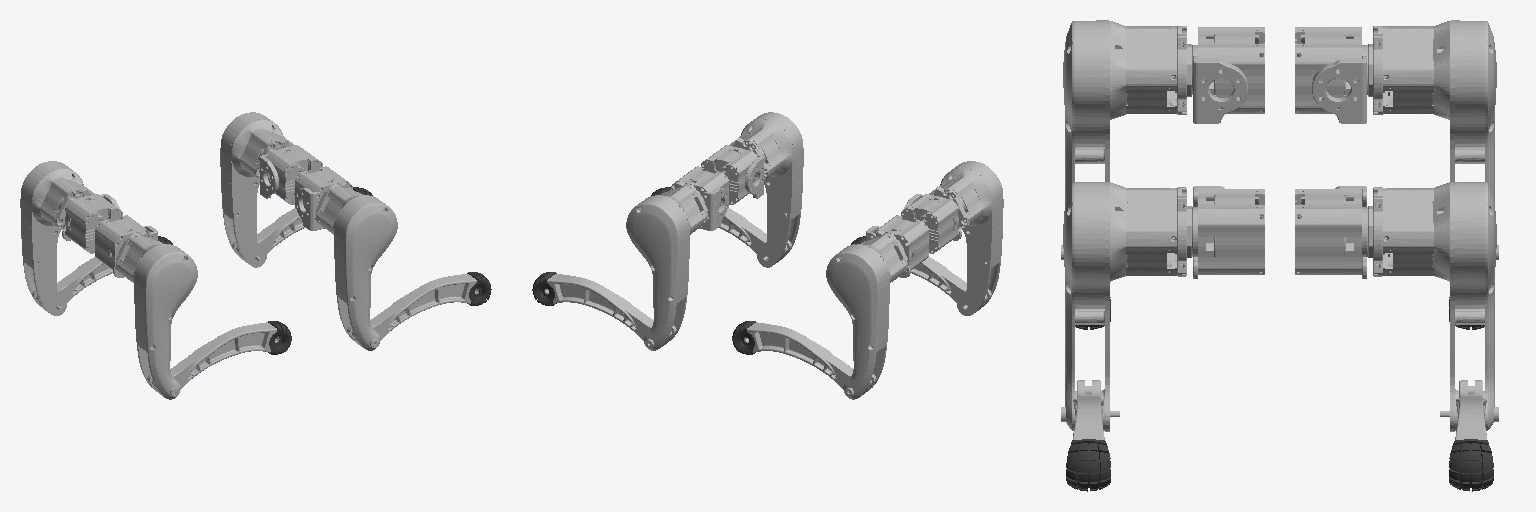
URDF robot description (htdw_4438):
<?xml version="1.0" encoding="utf-8"?>
 <!-- This URDF was automatically created by SolidWorks to URDF Exporter! Originally created by Stephen Brawner (brawner@gmail.com) 
      Commit Version: 1.6.0-4-g7f85cfe  Build Version: 1.6.7995.38578
      For more information, please see http://wiki.ros.org/sw_urdf_exporter -->
 <robot name="htdw_4438">
   <link name="base_link">
     <inertial>
       <origin xyz="0.000600465368410276 -0.00314982453651785 0.00152513518469231" rpy="0 0 0" />
       <mass value="1.84297330256496" />
       <inertia ixx="0.00116284610393262" ixy="2.17717486004626E-06" ixz="-2.04491805432312E-06" iyy="0.00097787331335566" iyz="7.97599370739883E-06" izz="0.00132112556839796" />
     </inertial>
     <visual>
       <origin xyz="0 0 0" rpy="0 0 0" />
       <geometry>
         <mesh filename="../meshes/base_link.STL" />
       </geometry>
       <material name="">
         <color rgba="0.752941176470588 0.752941176470588 0.752941176470588 1" />
       </material>
     </visual>
     <collision>
       <origin xyz="0 0 0" rpy="0 0 0" />
       <geometry>
         <mesh filename="../meshes/base_link.STL" />
       </geometry>
     </collision>
   </link>
   <link name="FL_hip">
     <inertial>
       <origin xyz="-0.0010817693436814 -0.00187927639665006 -0.000103178364797727" rpy="0 0 0" />
       <mass value="0.251694707355426" />
       <inertia ixx="5.39552890070019E-05" ixy="6.08004335708032E-07" ixz="-1.46745760870242E-06" iyy="8.98226386909028E-05" iyz="-4.21623575230444E-07" izz="5.58056693088453E-05" />
     </inertial>
     <visual>
       <origin xyz="0 0 0" rpy="0 0 0" />
       <geometry>
         <mesh filename="../meshes/FL_hip.STL" />
       </geometry>
       <material name="">
         <color rgba="0.752941176470588 0.752941176470588 0.752941176470588 1" />
       </material>
     </visual>
     <collision>
       <origin xyz="0 0 0" rpy="0 0 0" />
       <geometry>
         <mesh filename="../meshes/FL_hip.STL" />
       </geometry>
     </collision>
   </link>
   <joint name="FL_hip_joint" type="revolute">
     <origin xyz="0.11415 0.035 0" rpy="0 0 0" />
     <parent link="base_link" />
     <child link="FL_hip" />
     <axis xyz="1 0 0" />
     <limit lower="-1.05" upper="1.05" effort="10" velocity="9.5" />
   </joint>
   <link name="FL_thigh">
     <inertial>
       <origin xyz="-0.00099522270995353 -0.0261102304173971 -0.00764463909727428" rpy="0 0 0" />
       <mass value="0.324923566367365" />
       <inertia ixx="0.000136883717609916" ixy="-2.51081384587637E-08" ixz="7.98927830574171E-06" iyy="0.000184267439524921" iyz="-1.85875396867491E-06" izz="6.93741231062479E-05" />
     </inertial>
     <visual>
       <origin xyz="0 0 0" rpy="0 0 0" />
       <geometry>
         <mesh filename="../meshes/FL_thigh.STL" />
       </geometry>
       <material name="">
         <color rgba="0.752941176470588 0.752941176470588 0.752941176470588 1" />
       </material>
     </visual>
     <collision>
       <origin xyz="0 0 0" rpy="0 0 0" />
       <geometry>
         <mesh filename="../meshes/FL_thigh.STL" />
       </geometry>
     </collision>
   </link>
   <joint name="FL_thigh_joint" type="revolute">
     <origin xyz="0 0.0792 0" rpy="0 0 0" />
     <parent link="FL_hip" />
     <child link="FL_thigh" />
     <axis xyz="0 1 0" />
     <limit lower="-1.57" upper="3.49" effort="10" velocity="9.5" />
   </joint>
   <link name="FL_calf">
     <inertial>
       <origin xyz="0.00564494539031023 -0.00121430210950679 -0.00402091270109582" rpy="0 0 0" />
       <mass value="0.0420237310461106" />
       <inertia ixx="5.55097212687913E-05" ixy="-1.76853655275813E-08" ixz="-1.4848252832634E-06" iyy="5.75372957785657E-05" iyz="9.47241098197881E-09" izz="3.0128407726656E-06" />
     </inertial>
     <visual>
       <origin xyz="0 0 0" rpy="0 0 0" />
       <geometry>
         <mesh filename="../meshes/FL_calf.STL" />
       </geometry>
       <material name="">
         <color rgba="0.752941176470588 0.752941176470588 0.752941176470588 1" />
       </material>
     </visual>
     <collision>
       <origin xyz="0 0 0" rpy="0 0 0" />
       <geometry>
         <mesh filename="../meshes/FL_calf.STL" />
       </geometry>
     </collision>
   </link>
   <joint name="FL_calf_joint" type="revolute">
     <origin xyz="0 0 -0.12" rpy="0 0 0" />
     <parent link="FL_thigh" />
     <child link="FL_calf" />
     <axis xyz="0 1 0" />
     <limit lower="-2.70" upper="-0.84" effort="10" velocity="9.5" />
   </joint>
   <link name="FL_foot">
     <inertial>
       <origin xyz="-0.00177700896115437 -8.15146748087137E-08 -0.00395177556182794" rpy="0 0 0" />
       <mass value="0.00966852667113704" />
       <inertia ixx="8.25437347151311E-07" ixy="1.24271071784835E-12" ixz="-1.34883693730047E-07" iyy="1.07494009145841E-06" iyz="2.06005010503508E-12" izz="1.03477399730926E-06" />
     </inertial>
     <visual>
       <origin xyz="0 0 0" rpy="0 0 0" />
       <geometry>
         <mesh filename="../meshes/FL_foot.STL" />
       </geometry>
       <material name="">
         <color rgba="0.298039215686275 0.298039215686275 0.298039215686275 1" />
       </material>
     </visual>
      <collision>
        <origin xyz="0 0 0" rpy="0 0 0" />
        <geometry>
          <sphere radius="0.01675"/>
        </geometry>
      </collision>
   </link>
   <joint name="FL_foot_joint" type="fixed">
     <origin xyz="0 0 -0.12516" rpy="0 0 0" />
     <parent link="FL_calf" />
     <child link="FL_foot" />
     <axis xyz="0 0 0" />
   </joint>
   <link name="FR_hip">
     <inertial>
       <origin xyz="-0.00129941228530651 0.00187927660627656 -0.000103178429811555" rpy="0 0 0" />
       <mass value="0.251694702930864" />
       <inertia ixx="5.39552886042575E-05" ixy="-6.43410306357744E-07" ixz="-1.93109468278844E-07" iyy="8.98226382554237E-05" iyz="4.21623724179013E-07" izz="5.58056690994948E-05" />
     </inertial>
     <visual>
       <origin xyz="0 0 0" rpy="0 0 0" />
       <geometry>
         <mesh filename="../meshes/FR_hip.STL" />
       </geometry>
       <material name="">
         <color rgba="0.752941176470588 0.752941176470588 0.752941176470588 1" />
       </material>
     </visual>
     <collision>
       <origin xyz="0 0 0" rpy="0 0 0" />
       <geometry>
         <mesh filename="../meshes/FR_hip.STL" />
       </geometry>
     </collision>
   </link>
   <joint name="FR_hip_joint" type="revolute">
     <origin xyz="0.11415 -0.035 0" rpy="0 0 0" />
     <parent link="base_link" />
     <child link="FR_hip" />
     <axis xyz="1 0 0" />
     <limit lower="-1.05" upper="1.05" effort="10" velocity="9.5" />
   </joint>
   <link name="FR_thigh">
     <inertial>
       <origin xyz="-0.00107908332595207 0.0261111105793571 -0.00779460423399831" rpy="0 0 0" />
       <mass value="0.324894722817064" />
       <inertia ixx="0.000137961821457371" ixy="7.73131822402282E-09" ixz="7.31514115878551E-06" iyy="0.000184252084564708" iyz="1.82773197786738E-06" izz="6.82803118444463E-05" />
     </inertial>
     <visual>
       <origin xyz="0 0 0" rpy="0 0 0" />
       <geometry>
         <mesh filename="../meshes/FR_thigh.STL" />
       </geometry>
       <material name="">
         <color rgba="0.752941176470588 0.752941176470588 0.752941176470588 1" />
       </material>
     </visual>
     <collision>
       <origin xyz="0 0 0" rpy="0 0 0" />
       <geometry>
         <mesh filename="../meshes/FR_thigh.STL" />
       </geometry>
     </collision>
   </link>
   <joint name="FR_thigh_joint" type="revolute">
     <origin xyz="0 -0.0792 0" rpy="0 0 0" />
     <parent link="FR_hip" />
     <child link="FR_thigh" />
     <axis xyz="0 1 0" />
     <limit lower="-1.57" upper="3.49" effort="10" velocity="9.5" />
   </joint>
   <link name="FR_calf">
     <inertial>
       <origin xyz="0.00582772688281934 0.00121300586923306 -0.00378068438831555" rpy="0 0 0" />
       <mass value="0.0420237310926577" />
       <inertia ixx="5.55156034769286E-05" ixy="1.31197718604285E-08" ixz="-1.48645296435009E-06" iyy="5.75372958117152E-05" iyz="-1.3966165882081E-08" izz="3.00695860042267E-06" />
     </inertial>
     <visual>
       <origin xyz="0 0 0" rpy="0 0 0" />
       <geometry>
         <mesh filename="../meshes/FR_calf.STL" />
       </geometry>
       <material name="">
         <color rgba="0.752941176470588 0.752941176470588 0.752941176470588 1" />
       </material>
     </visual>
     <collision>
       <origin xyz="0 0 0" rpy="0 0 0" />
       <geometry>
         <mesh filename="../meshes/FR_calf.STL" />
       </geometry>
     </collision>
   </link>
   <joint name="FR_calf_joint" type="revolute">
     <origin xyz="0 0 -0.12" rpy="0 0 0" />
     <parent link="FR_thigh" />
     <child link="FR_calf" />
     <axis xyz="0 1 0" />
     <limit lower="-2.70" upper="-0.84" effort="10" velocity="9.5" />
   </joint>
   <link name="FR_foot">
     <inertial>
       <origin xyz="-0.00177700803731326 -8.23571651431543E-08 -0.00395177559325324" rpy="0 0 0" />
       <mass value="0.00966852763213014" />
       <inertia ixx="8.25437419791137E-07" ixy="1.16317656567687E-12" ixz="-1.34883699715158E-07" iyy="1.07494017784282E-06" iyz="2.06518504767073E-12" izz="1.03477415700368E-06" />
     </inertial>
     <visual>
       <origin xyz="0 0 0" rpy="0 0 0" />
       <geometry>
         <mesh filename="../meshes/FR_foot.STL" />
       </geometry>
       <material name="">
         <color rgba="0.298039215686275 0.298039215686275 0.298039215686275 1" />
       </material>
     </visual>
      <collision>
        <origin xyz="0 0 0" rpy="0 0 0" />
        <geometry>
          <sphere radius="0.01675"/>
        </geometry>
      </collision>
   </link>
   <joint name="FR_foot_joint" type="fixed">
     <origin xyz="0 0 -0.12516" rpy="0 0 0" />
     <parent link="FR_calf" />
     <child link="FR_foot" />
     <axis xyz="0 0 0" />
   </joint>
   <link name="RL_hip">
     <inertial>
       <origin xyz="0.00129941228530653 -0.00187927660629221 -0.000103178429854591" rpy="0 0 0" />
       <mass value="0.251694702930864" />
       <inertia ixx="5.39552886042574E-05" ixy="-6.43410306357759E-07" ixz="1.93109468278806E-07" iyy="8.98226382554238E-05" iyz="-4.21623724178951E-07" izz="5.5805669099495E-05" />
     </inertial>
     <visual>
       <origin xyz="0 0 0" rpy="0 0 0" />
       <geometry>
         <mesh filename="../meshes/RL_hip.STL" />
       </geometry>
       <material name="">
         <color rgba="0.752941176470588 0.752941176470588 0.752941176470588 1" />
       </material>
     </visual>
     <collision>
       <origin xyz="0 0 0" rpy="0 0 0" />
       <geometry>
         <mesh filename="../meshes/RL_hip.STL" />
       </geometry>
     </collision>
   </link>
   <joint name="RL_hip_joint" type="revolute">
     <origin xyz="-0.11415 0.035 0" rpy="0 0 0" />
     <parent link="base_link" />
     <child link="RL_hip" />
     <axis xyz="1 0 0" />
     <limit lower="-1.05" upper="1.05" effort="10" velocity="9.5" />
   </joint>
   <link name="RL_thigh">
     <inertial>
       <origin xyz="-0.000995222452287906 -0.0261102302598975 -0.00764463879473979" rpy="0 0 0" />
       <mass value="0.324923567925979" />
       <inertia ixx="0.000136883723369494" ixy="-2.51080841967351E-08" ixz="7.98927928993349E-06" iyy="0.000184267444743497" iyz="-1.85875382445889E-06" izz="6.9374122604277E-05" />
     </inertial>
     <visual>
       <origin xyz="0 0 0" rpy="0 0 0" />
       <geometry>
         <mesh filename="../meshes/RL_thigh.STL" />
       </geometry>
       <material name="">
         <color rgba="0.752941176470588 0.752941176470588 0.752941176470588 1" />
       </material>
     </visual>
     <collision>
       <origin xyz="0 0 0" rpy="0 0 0" />
       <geometry>
         <mesh filename="../meshes/RL_thigh.STL" />
       </geometry>
     </collision>
   </link>
   <joint name="RL_thigh_joint" type="revolute">
     <origin xyz="0 0.0792 0" rpy="0 0 0" />
     <parent link="RL_hip" />
     <child link="RL_thigh" />
     <axis xyz="0 1 0" />
     <limit lower="-1.57" upper="3.49" effort="10" velocity="9.5" />
   </joint>
   <link name="RL_calf">
     <inertial>
       <origin xyz="0.00564494538801444 -0.00121430444885841 -0.00402091270069573" rpy="0 0 0" />
       <mass value="0.042023731046932" />
       <inertia ixx="5.55097212689287E-05" ixy="-1.76853655433821E-08" ixz="-1.48482528554528E-06" iyy="5.75372957788305E-05" iyz="9.47241090121887E-09" izz="3.0128407728267E-06" />
     </inertial>
     <visual>
       <origin xyz="0 0 0" rpy="0 0 0" />
       <geometry>
         <mesh filename="../meshes/RL_calf.STL" />
       </geometry>
       <material name="">
         <color rgba="0.752941176470588 0.752941176470588 0.752941176470588 1" />
       </material>
     </visual>
     <collision>
       <origin xyz="0 0 0" rpy="0 0 0" />
       <geometry>
         <mesh filename="../meshes/RL_calf.STL" />
       </geometry>
     </collision>
   </link>
   <joint name="RL_calf_joint" type="revolute">
     <origin xyz="0 0 -0.12" rpy="0 0 0" />
     <parent link="RL_thigh" />
     <child link="RL_calf" />
     <axis xyz="0 1 0" />
     <limit lower="-2.70" upper="-0.84" effort="10" velocity="9.5" />
   </joint>
   <link name="RL_foot">
     <inertial>
       <origin xyz="-0.0017770080356426 -8.23533681734712E-08 -0.00395177559203386" rpy="0 0 0" />
       <mass value="0.00966852763213025" />
       <inertia ixx="8.25437419789569E-07" ixy="1.16317657815383E-12" ixz="-1.3488369971394E-07" iyy="1.07494017784283E-06" iyz="2.06518504704585E-12" izz="1.03477415700525E-06" />
     </inertial>
     <visual>
       <origin xyz="0 0 0" rpy="0 0 0" />
       <geometry>
         <mesh filename="../meshes/RL_foot.STL" />
       </geometry>
       <material name="">
         <color rgba="0.298039215686275 0.298039215686275 0.298039215686275 1" />
       </material>
     </visual>
      <collision>
        <origin xyz="0 0 0" rpy="0 0 0" />
        <geometry>
          <sphere radius="0.01675"/>
        </geometry>
      </collision>
   </link>
   <joint name="RL_foot_joint" type="fixed">
     <origin xyz="0 0 -0.12516" rpy="0 0 0" />
     <parent link="RL_calf" />
     <child link="RL_foot" />
     <axis xyz="0 0 0" />
   </joint>
   <link name="RR_hip">
     <inertial>
       <origin xyz="0.00108176934368656 0.00187927639664646 -0.000103178364705375" rpy="0 0 0" />
       <mass value="0.251694707355426" />
       <inertia ixx="5.39552890070019E-05" ixy="6.08004335708067E-07" ixz="1.46745760870243E-06" iyy="8.98226386909027E-05" iyz="4.21623575230508E-07" izz="5.58056693088452E-05" />
     </inertial>
     <visual>
       <origin xyz="0 0 0" rpy="0 0 0" />
       <geometry>
         <mesh filename="../meshes/RR_hip.STL" />
       </geometry>
       <material name="">
         <color rgba="0.752941176470588 0.752941176470588 0.752941176470588 1" />
       </material>
     </visual>
     <collision>
       <origin xyz="0 0 0" rpy="0 0 0" />
       <geometry>
         <mesh filename="../meshes/RR_hip.STL" />
       </geometry>
     </collision>
   </link>
   <joint name="RR_hip_joint" type="revolute">
     <origin xyz="-0.11415 -0.035 0" rpy="0 0 0" />
     <parent link="base_link" />
     <child link="RR_hip" />
     <axis xyz="1 0 0" />
     <limit lower="-1.05" upper="1.05" effort="10" velocity="9.5" />
   </joint>
   <link name="RR_thigh">
     <inertial>
       <origin xyz="-0.00107908350458201 0.0261111110819485 -0.00779460430195988" rpy="0 0 0" />
       <mass value="0.324894718506148" />
       <inertia ixx="0.000137961817980341" ixy="7.73152610613541E-09" ixz="7.31513933456516E-06" iyy="0.000184252081265956" iyz="1.82773223583964E-06" izz="6.82803118935172E-05" />
     </inertial>
     <visual>
       <origin xyz="0 0 0" rpy="0 0 0" />
       <geometry>
         <mesh filename="../meshes/RR_thigh.STL" />
       </geometry>
       <material name="">
         <color rgba="0.752941176470588 0.752941176470588 0.752941176470588 1" />
       </material>
     </visual>
     <collision>
       <origin xyz="0 0 0" rpy="0 0 0" />
       <geometry>
         <mesh filename="../meshes/RR_thigh.STL" />
       </geometry>
     </collision>
   </link>
   <joint name="RR_thigh_joint" type="revolute">
     <origin xyz="0 -0.0792 0" rpy="0 0 0" />
     <parent link="RR_hip" />
     <child link="RR_thigh" />
     <axis xyz="0 1 0" />
     <limit lower="-1.57" upper="3.49" effort="10" velocity="9.5" />
   </joint>
   <link name="RR_calf">
     <inertial>
       <origin xyz="0.00632140469250522 0.00121300729763818 -0.00357704681896351" rpy="0 0 0" />
       <mass value="0.0420237310469321" />
       <inertia ixx="5.55217015191486E-05" ixy="1.00957113033434E-09" ixz="-1.47962670692764E-06" iyy="5.75372957788314E-05" iyz="-1.90189970154938E-08" izz="3.00086052263833E-06" />
     </inertial>
     <visual>
       <origin xyz="0 0 0" rpy="0 0 0" />
       <geometry>
         <mesh filename="../meshes/RR_calf.STL" />
       </geometry>
       <material name="">
         <color rgba="0.752941176470588 0.752941176470588 0.752941176470588 1" />
       </material>
     </visual>
     <collision>
       <origin xyz="0 0 0" rpy="0 0 0" />
       <geometry>
         <mesh filename="../meshes/RR_calf.STL" />
       </geometry>
     </collision>
   </link>
   <joint name="RR_calf_joint" type="revolute">
     <origin xyz="0 0 -0.12" rpy="0 0 0" />
     <parent link="RR_thigh" />
     <child link="RR_calf" />
     <axis xyz="0 1 0" />
     <limit lower="-2.70" upper="-0.84" effort="10" velocity="9.5" />
   </joint>
   <link name="RR_foot">
     <inertial>
       <origin xyz="-0.00177700646523521 -8.66310903291367E-08 -0.00395177340418429" rpy="0 0 0" />
       <mass value="0.00966852411914803" />
       <inertia ixx="8.25436837115183E-07" ixy="1.28341609928832E-12" ixz="-1.34883742926729E-07" iyy="1.07494009714652E-06" iyz="2.2758580521183E-12" izz="1.03477375057305E-06" />
     </inertial>
     <visual>
       <origin xyz="0 0 0" rpy="0 0 0" />
       <geometry>
         <mesh filename="../meshes/RR_foot.STL" />
       </geometry>
       <material name="">
         <color rgba="0.298039215686275 0.298039215686275 0.298039215686275 1" />
       </material>
     </visual>
      <collision>
        <origin xyz="0 0 0" rpy="0 0 0" />
        <geometry>
          <sphere radius="0.01675"/>
        </geometry>
      </collision>
   </link>
   <joint name="RR_foot_joint" type="fixed">
     <origin xyz="0 0 -0.12516" rpy="0 0 0" />
     <parent link="RR_calf" />
     <child link="RR_foot" />
     <axis xyz="0 0 0" />
   </joint>
 </robot>

--- Render facts (derived) ---
Views: 3 orthographic renders of the robot side by side, from view 1: azimuth 30°, elevation 25°; view 2: azimuth 150°, elevation 25°; view 3: azimuth 270°, elevation 25°.
Robot: htdw_4438 — 17 links, 16 joints (12 revolute, 4 fixed); root link base_link; default pose: all joints at 0 but 4 set to mid-range because 0 is outside their limits (FL_calf_joint = -1.77, FR_calf_joint = -1.77, RL_calf_joint = -1.77, RR_calf_joint = -1.77).
Visible links, largest first — view 1: FR_thigh, RR_thigh, RL_thigh, FL_thigh, FR_calf, RR_calf, FL_hip, RL_hip, FR_hip, RR_hip, RL_calf, FL_calf (+2 smaller); view 2: FL_thigh, RL_thigh, RR_thigh, FR_thigh, FL_calf, RL_calf, FR_hip, RR_hip, FL_hip, RL_hip, RR_calf, FR_calf (+2 smaller); view 3: FL_thigh, FR_thigh, RR_thigh, RL_thigh, RL_hip, RR_hip, FL_hip, FR_hip, FL_foot, FR_foot, FR_calf, FL_calf.
Link boxes in pixels (x1,y1,x2,y2): FR_thigh: [314, 181, 397, 350]; RR_thigh: [115, 230, 197, 399]; RL_thigh: [20, 161, 94, 315]; FL_thigh: [220, 112, 294, 267]; FR_calf: [347, 274, 478, 346]; RR_calf: [147, 322, 279, 397]; FL_hip: [260, 145, 322, 204]; RL_hip: [62, 194, 122, 253]; FR_hip: [294, 166, 352, 230]; RR_hip: [95, 215, 157, 277]; RL_calf: [32, 257, 112, 312]; FL_calf: [232, 189, 355, 262]; FL_thigh: [626, 181, 709, 350]; RL_thigh: [826, 230, 908, 399]; RR_thigh: [929, 161, 1003, 315]; FR_thigh: [729, 112, 803, 267]; FL_calf: [545, 274, 676, 346]; RL_calf: [744, 322, 876, 397]; FR_hip: [701, 145, 763, 204]; RR_hip: [901, 194, 961, 253]; FL_hip: [671, 166, 728, 230]; RL_hip: [866, 215, 928, 277]; RR_calf: [911, 257, 991, 312]; FR_calf: [668, 189, 791, 262]; FL_thigh: [1368, 182, 1498, 431]; FR_thigh: [1061, 182, 1191, 431]; RR_thigh: [1061, 20, 1191, 259]; RL_thigh: [1368, 20, 1498, 259]; RL_hip: [1295, 27, 1367, 123]; RR_hip: [1192, 27, 1264, 123]; FL_hip: [1295, 186, 1367, 278]; FR_hip: [1192, 186, 1264, 278]; FL_foot: [1449, 439, 1493, 491]; FR_foot: [1066, 439, 1110, 491]; FR_calf: [1073, 380, 1104, 439]; FL_calf: [1455, 380, 1486, 439].
Bounding box of the posed robot: 0.3977 × 0.262 × 0.1602 m (x, y, z).
16 mesh visuals loaded from 17 distinct referenced files (16 binary STL); not drawn: 1 (reference not matched to a file when rendering).
